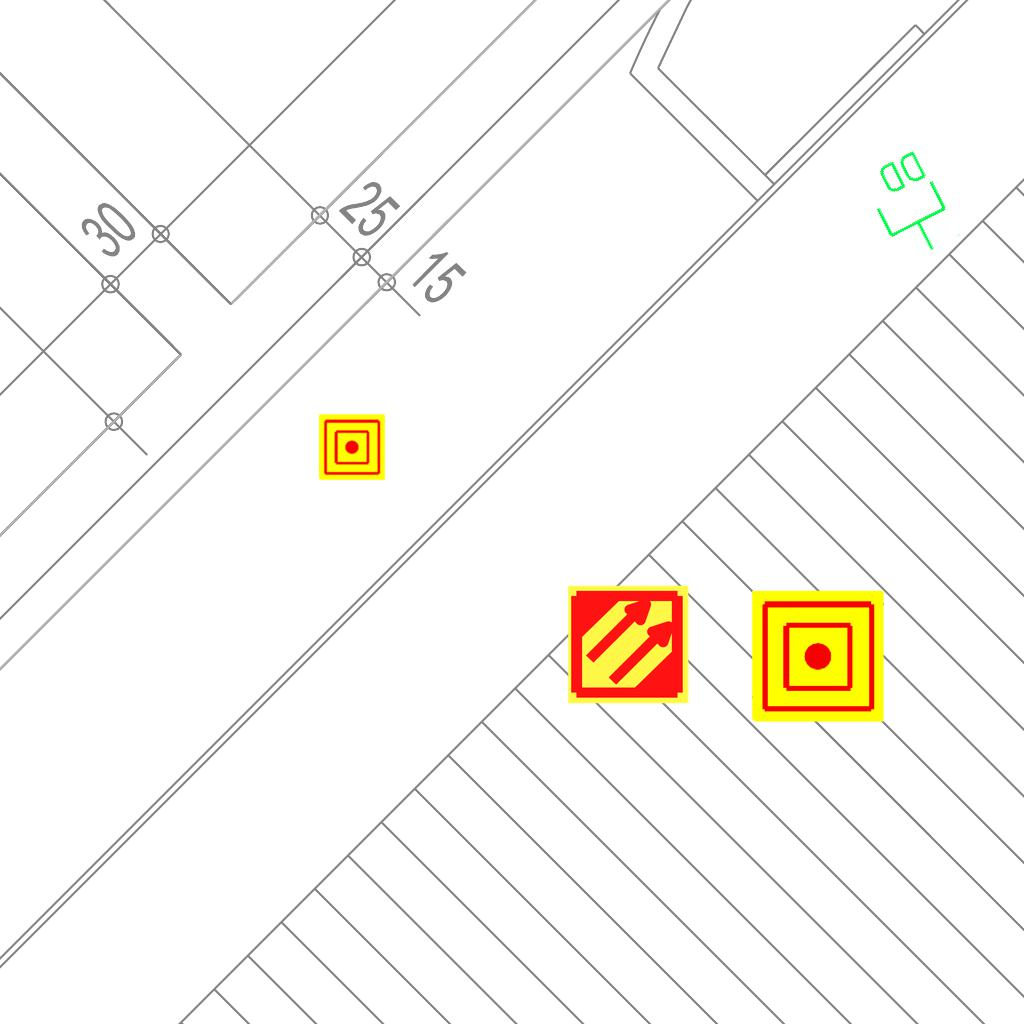ASR_Ansaugrauchmelder: (566, 582, 691, 707)
Datenanschluss_zweifach: (856, 143, 965, 268)
NAM-Nichtautomatischer_Melder: (752, 590, 884, 722), (319, 414, 385, 480)
